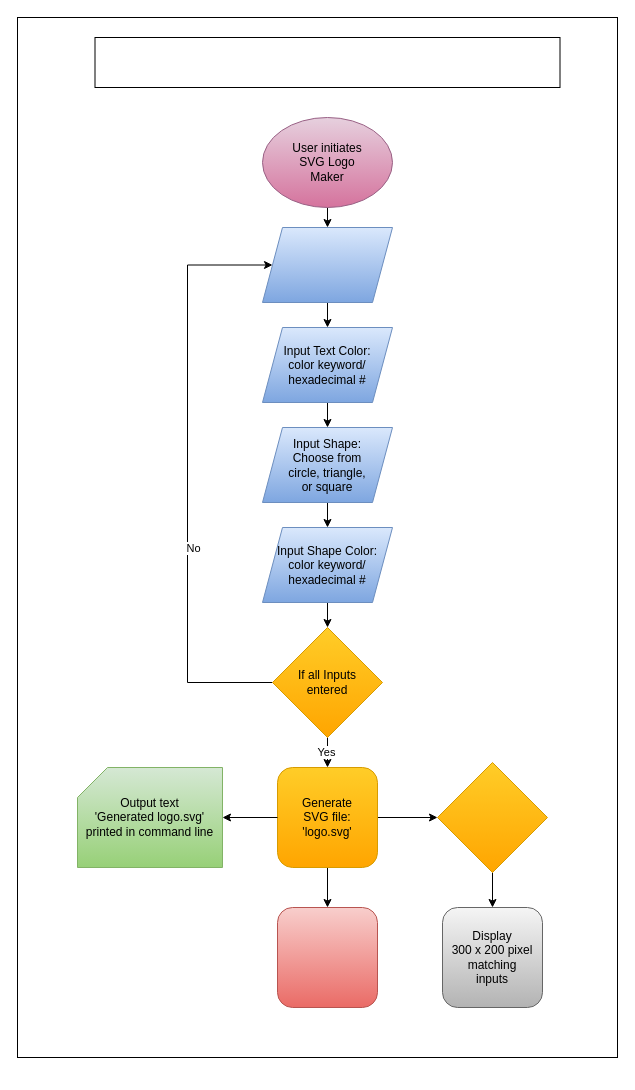
Some shapes in this 635 by 1090 pixel diagram are drawn without their labels. Each missing label, with the centre of its shape:
"End State" belongs at pixel 327 957.
"Input Text: up to three characters" belongs at pixel 327 264.
"Open 'logo.svg' in browser" belongs at pixel 492 817.
"SVG Logo Maker State Flow Diagram" belongs at pixel 327 62.
